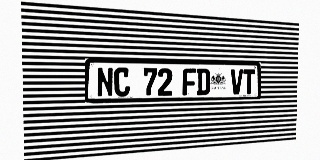2: (158, 68, 172, 96)
7: (142, 68, 157, 96)
C: (114, 67, 130, 97)
D: (197, 68, 210, 95)
F: (182, 68, 196, 95)
N: (97, 67, 113, 97)
T: (243, 69, 255, 94)
V: (230, 69, 243, 94)
